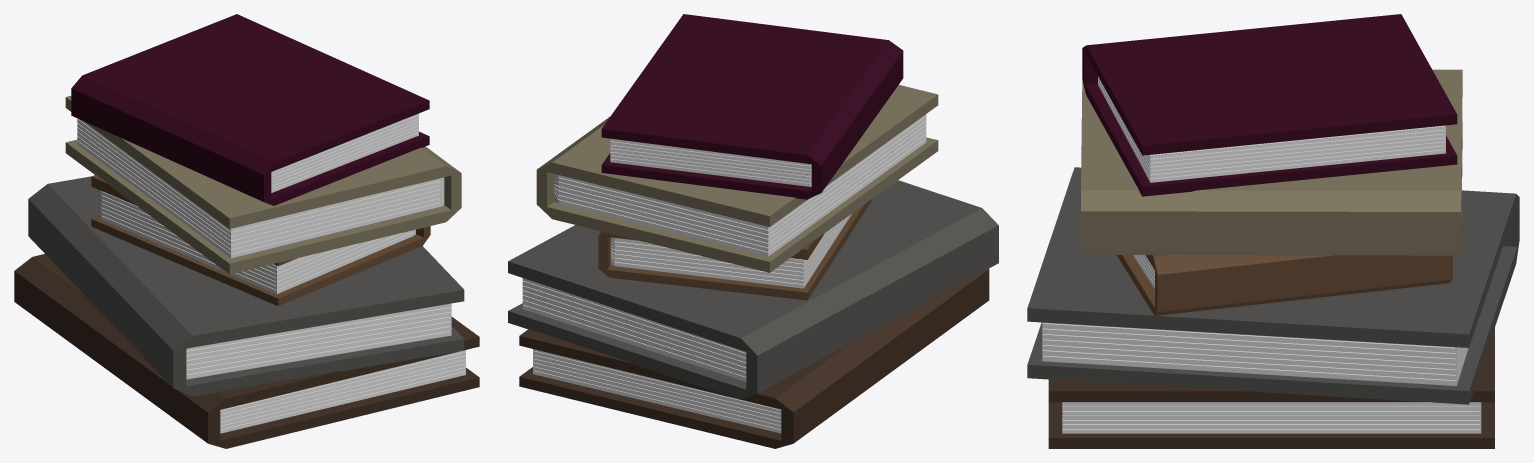
The model's file is StapelBraun.glb.
3 renders of one model, left to right at view 1: azimuth 30°, elevation 25°; view 2: azimuth 150°, elevation 25°; view 3: azimuth 270°, elevation 25°, orthographic. The views are drawn at different scales.
Visible parts, largest first — view 1: Plane.004; view 2: Plane.004; view 3: Plane.004.
Part boxes in pixels (bbox=[...]): Plane.004: bbox=[14, 14, 479, 448]; Plane.004: bbox=[508, 14, 998, 448]; Plane.004: bbox=[1027, 14, 1519, 448].
Bounding box in the file's own units: 2.77 × 2.17 × 3.25.
